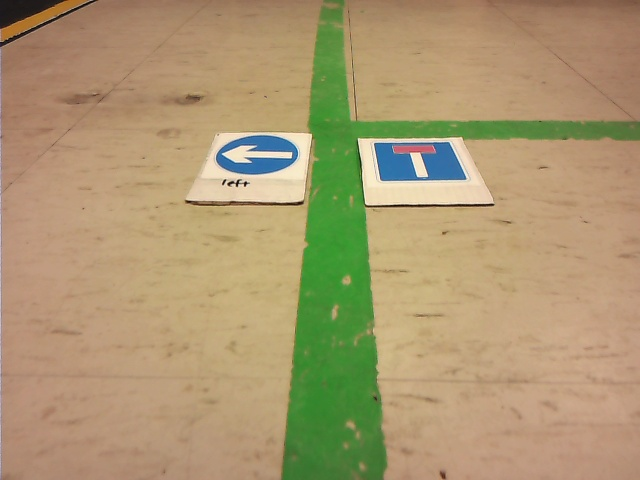DEAD END: (374, 142, 466, 181)
TURN LEFT: (216, 136, 298, 174)
